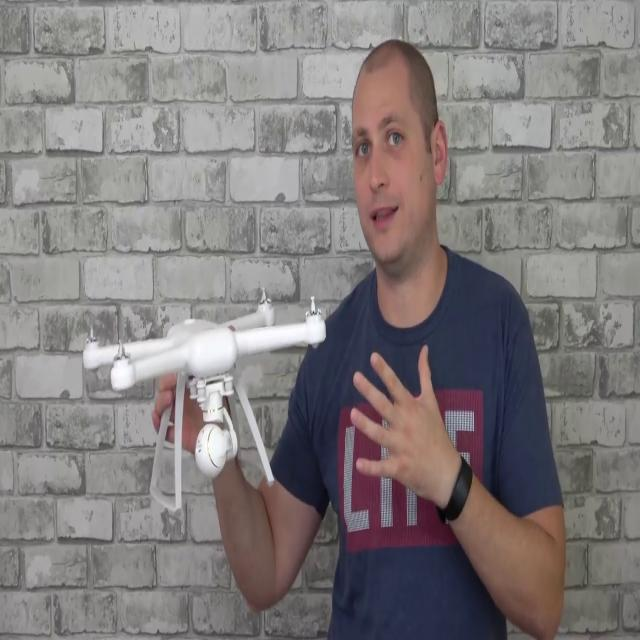drone: (75, 284, 336, 396)
